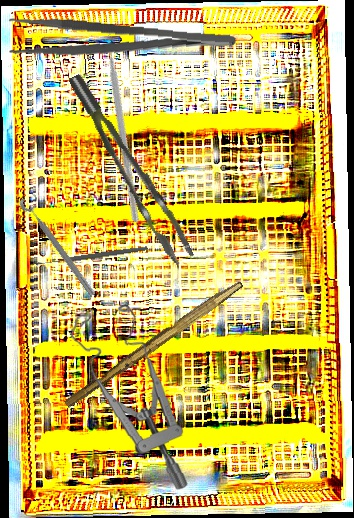Chopper: (28, 21, 226, 224)
Dressing Forceps: (5, 14, 239, 71)
Fixation Ring: (17, 190, 104, 300)
Scalpel Handle: (62, 274, 245, 413)
Speculum: (68, 299, 191, 497)
Surgical Spoon: (35, 245, 148, 267)
Tissue Forceps: (68, 61, 195, 275)
